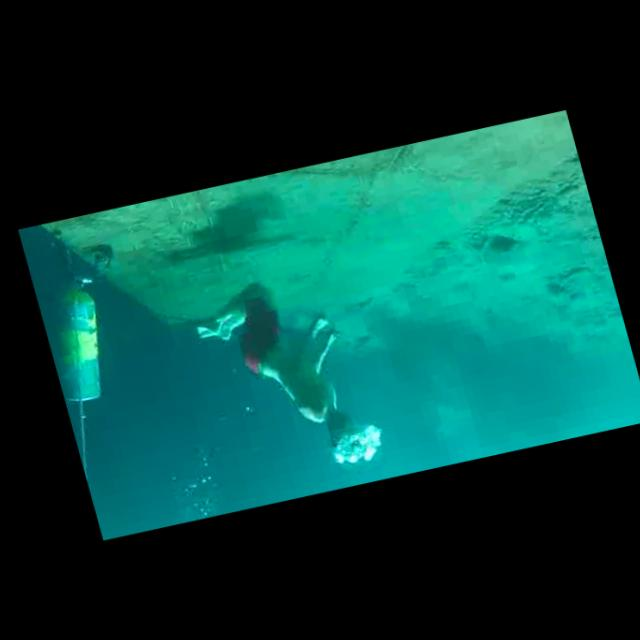human: (182, 263, 376, 489)
